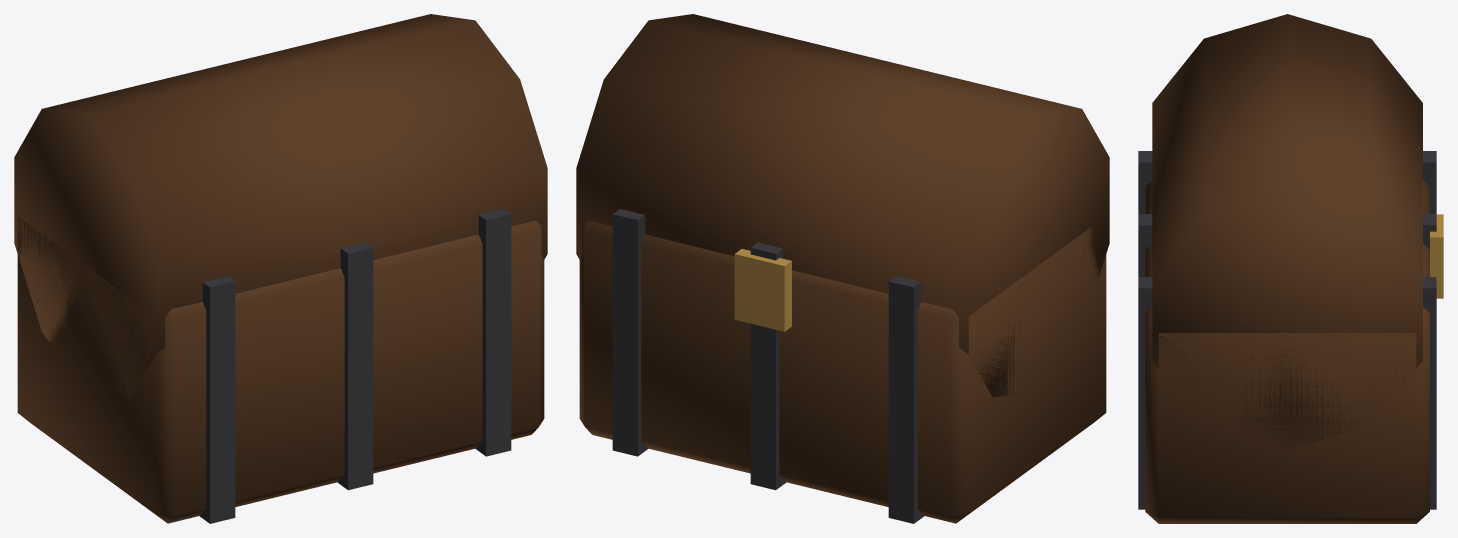
The model's file is carried_chest.glb.
3 renders of one model, left to right at view 1: azimuth 30°, elevation 25°; view 2: azimuth 150°, elevation 25°; view 3: azimuth 270°, elevation 25°, orthographic. The views are drawn at different scales.
Parts seen in each view (by area): view 1: carried_chest; view 2: carried_chest; view 3: carried_chest.
Part boxes in pixels (x1,y1,x2,y2): carried_chest: [14, 14, 547, 523]; carried_chest: [576, 14, 1109, 523]; carried_chest: [1138, 14, 1443, 523].
Size of the model in its own units: 0.62 by 0.55 by 0.45.
